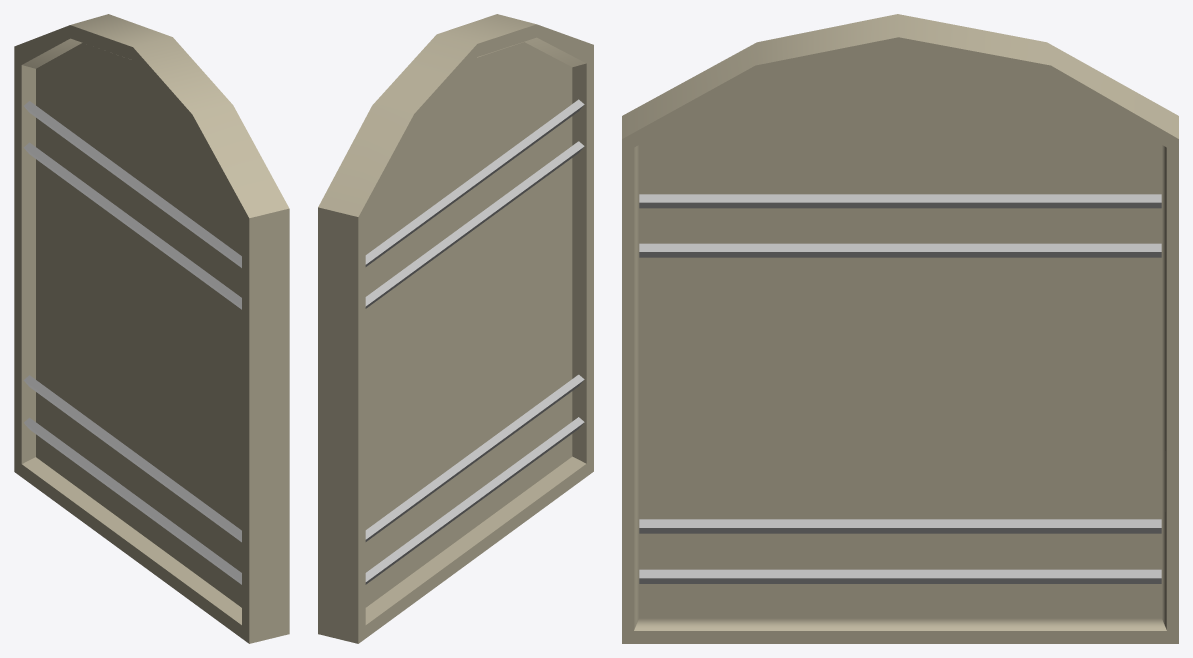
The model's file is door.fbx.
3 views of the same model, side by side, from view 1: azimuth 30°, elevation 25°; view 2: azimuth 150°, elevation 25°; view 3: azimuth 270°, elevation 25° (orthographic). The views are drawn at different scales.
Parts seen in each view (by area): view 1: polySurface1; view 2: polySurface1; view 3: polySurface1.
Boxes of the visible parts, x1,y1,x2,y2 form: polySurface1: (14,14,289,643); polySurface1: (318,14,593,643); polySurface1: (622,14,1178,643).
Size of the model in its own units: 0.384 by 4.67 by 3.89.
